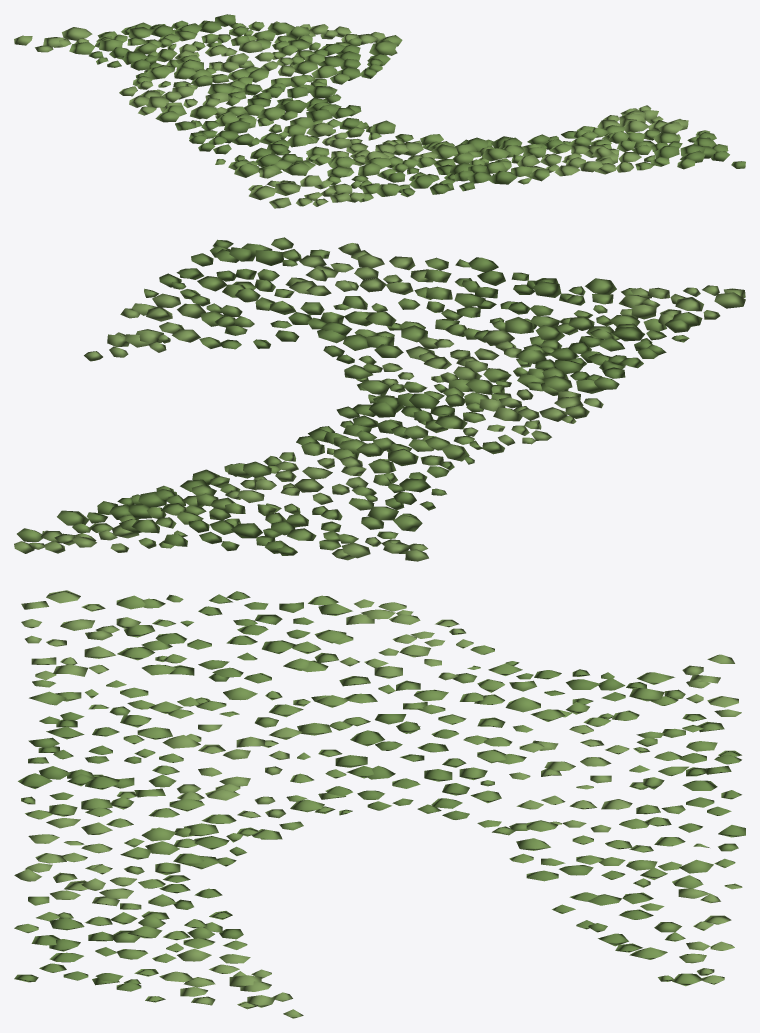
Rendered from canopy-1--2--5.glb.
The picture shows the model from 3 angles, top to bottom: view 1: azimuth 30°, elevation 25°; view 2: azimuth 150°, elevation 25°; view 3: azimuth 270°, elevation 25°; orthographic projection. The views are drawn at different scales.
Bounding box in the file's own units: 515 × 130 × 518.
Materials: 1 (1 with a texture image).
